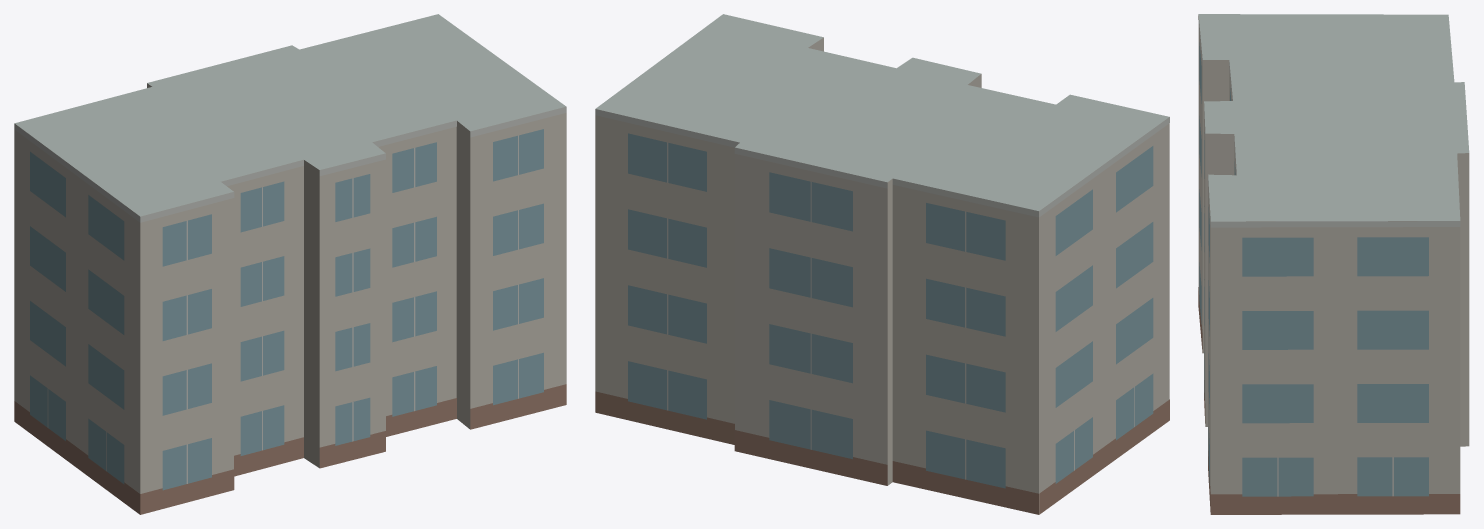
File: survey-upis-32972514.glb
3 views of the same model, side by side, from view 1: azimuth 30°, elevation 25°; view 2: azimuth 150°, elevation 25°; view 3: azimuth 270°, elevation 25° (orthographic). The views are drawn at different scales.
Parts seen in each view (by area): view 1: survey-upis-32972514.tmp; view 2: survey-upis-32972514.tmp; view 3: survey-upis-32972514.tmp.
Part boxes in pixels (left/top/right/bottom): survey-upis-32972514.tmp: left=14, top=14, right=566, bottom=514; survey-upis-32972514.tmp: left=595, top=14, right=1169, bottom=514; survey-upis-32972514.tmp: left=1198, top=14, right=1469, bottom=514.
Bounding box in the file's own units: 17.91 × 11.8 × 9.88.
